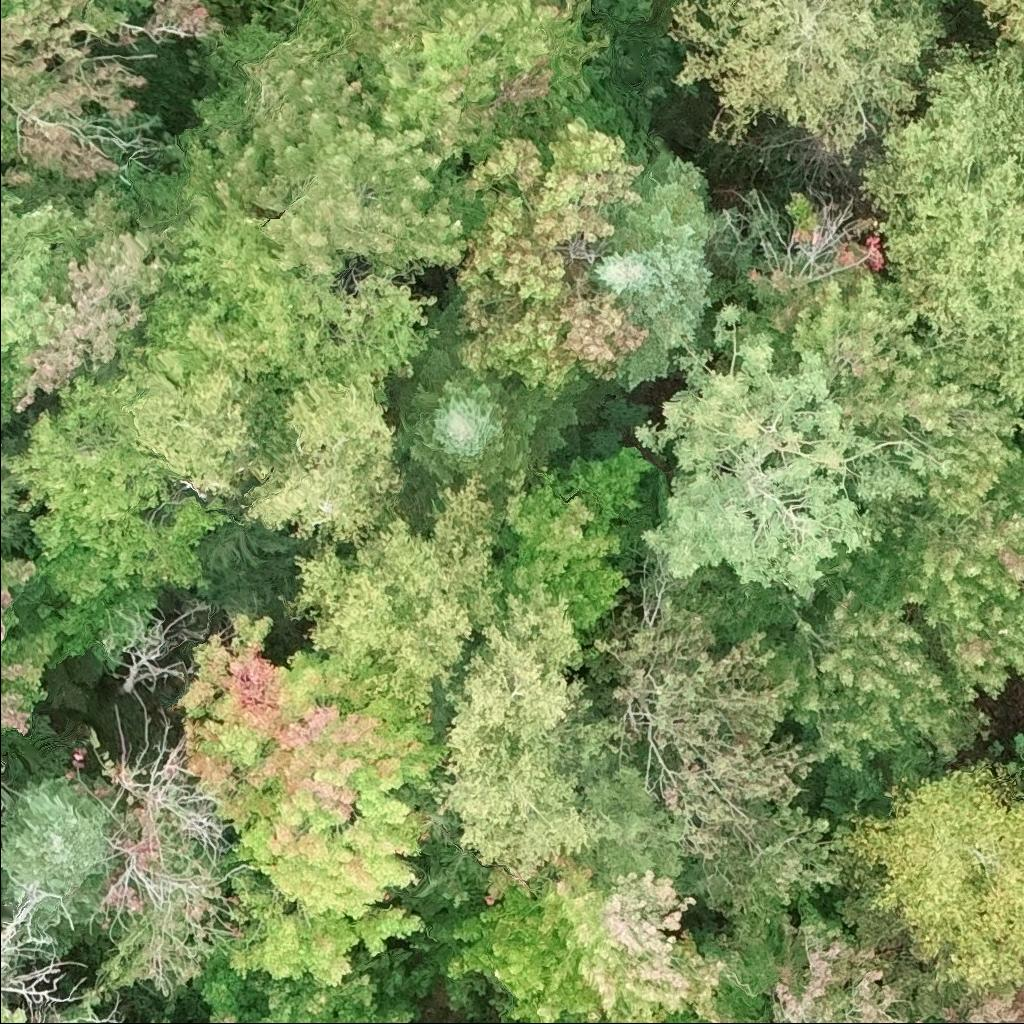crown: (126, 14, 470, 401), (173, 609, 450, 988), (633, 298, 956, 608), (2, 372, 231, 667), (264, 0, 616, 179), (856, 40, 1023, 414), (426, 582, 624, 895), (288, 469, 511, 737), (783, 268, 1023, 515), (610, 590, 822, 866), (450, 112, 649, 400), (427, 855, 751, 1023), (815, 457, 1023, 711), (390, 290, 605, 502), (667, 0, 950, 160), (838, 765, 1023, 998), (764, 587, 980, 785), (0, 0, 226, 189), (105, 310, 293, 501), (0, 175, 139, 432), (239, 369, 433, 552), (585, 147, 723, 395), (12, 223, 186, 413), (496, 443, 656, 633), (703, 897, 920, 1023), (567, 746, 688, 887), (0, 771, 109, 911), (0, 547, 59, 735), (0, 430, 33, 556), (937, 987, 1023, 1023), (974, 0, 1023, 52), (261, 1001, 369, 1023), (205, 990, 241, 1023), (0, 999, 35, 1023), (1017, 734, 1023, 774), (0, 168, 7, 194), (925, 1017, 948, 1023), (940, 0, 957, 5), (1021, 785, 1023, 795)
